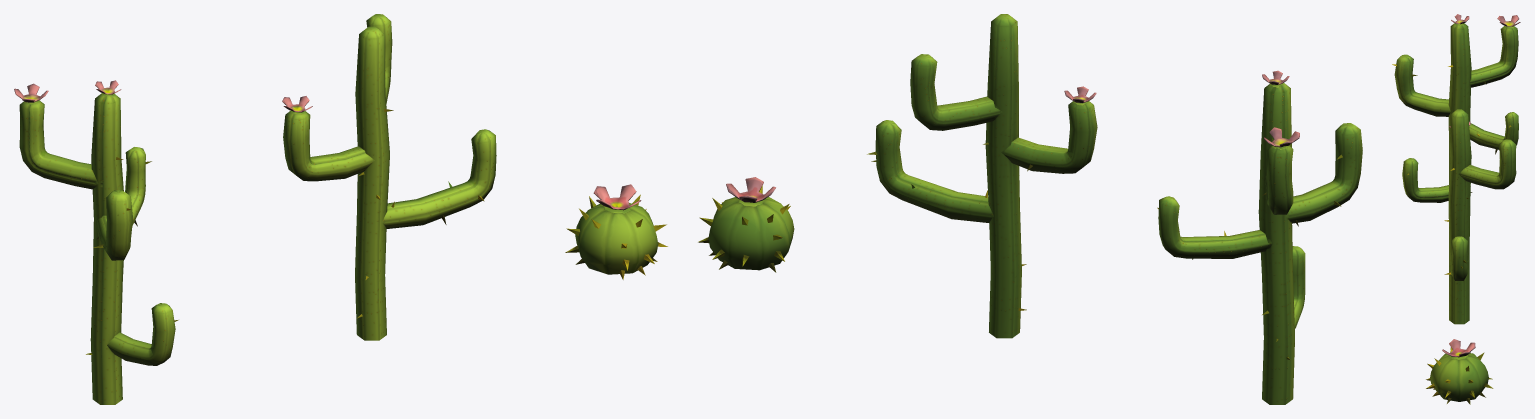
Rendered from cactus_lowpoly.glb.
3 views of the same model, side by side, from view 1: azimuth 30°, elevation 25°; view 2: azimuth 150°, elevation 25°; view 3: azimuth 270°, elevation 25° (orthographic). The views are drawn at different scales.
Visible parts, largest first — view 1: Cactus_2, Cactus_1, Cactus_3; view 2: Cactus_2, Cactus_1, Cactus_3; view 3: Cactus_1, Cactus_2, Cactus_3.
Boxes of the visible parts, x1,y1,x2,y2 form: Cactus_2: (282,14,496,340); Cactus_1: (14,80,178,404); Cactus_3: (565,184,667,279); Cactus_2: (867,14,1097,338); Cactus_1: (1157,70,1362,404); Cactus_3: (698,177,794,272); Cactus_1: (1392,14,1520,202); Cactus_2: (1444,109,1516,324); Cactus_3: (1426,339,1493,404).
Size of the model in its own units: 879 by 437 by 238.
1 material, 1 textured.
